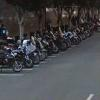Motorcycle: (6, 27, 78, 74)
